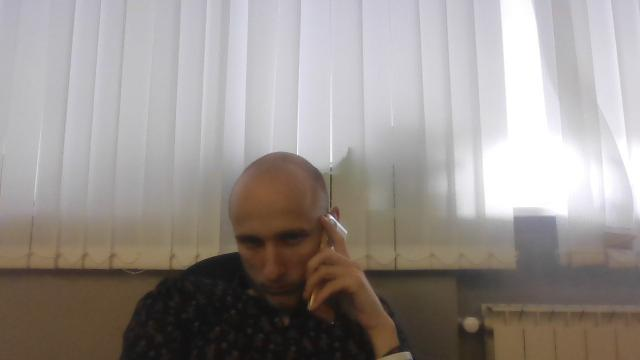Phone: (308, 212, 350, 326)
